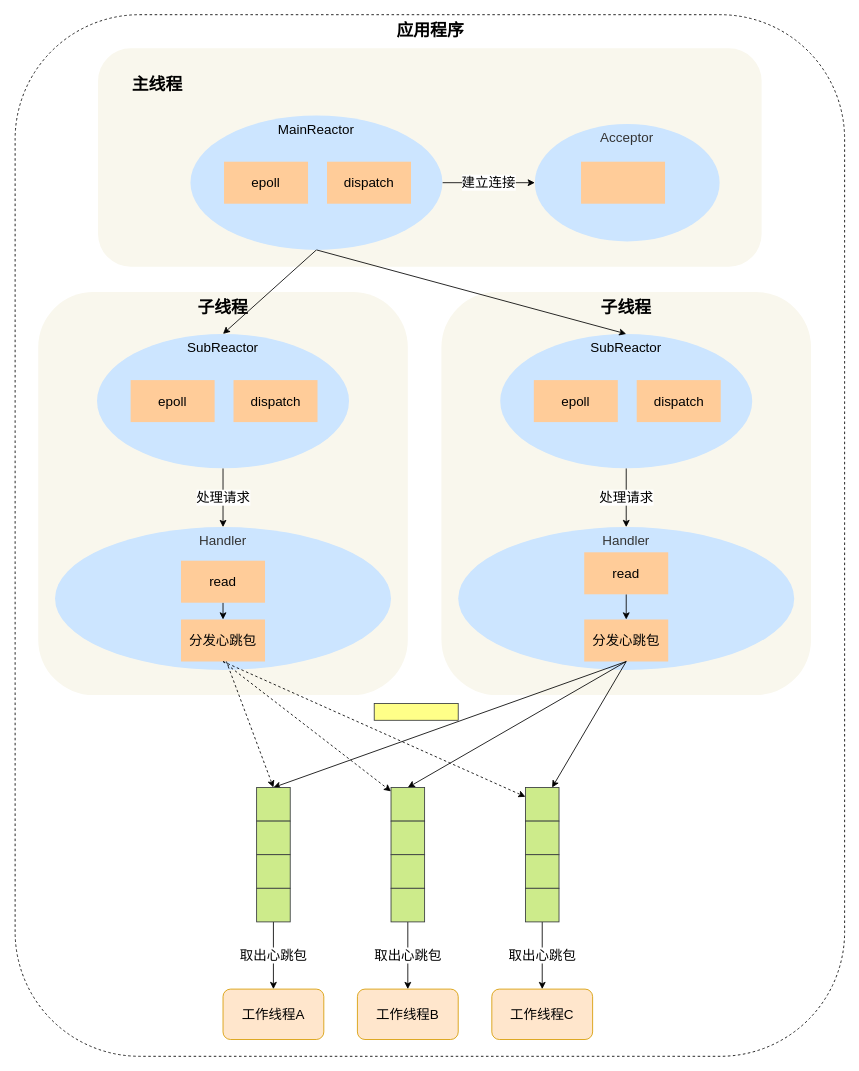
This 859x1071 diagram has some shape labels left out. Here are the shapes that lost their labels. From the top down, the centre of each, then its label:
At (x=623, y=182): "accept".
At (x=415, y=711): "加入心跳包".
